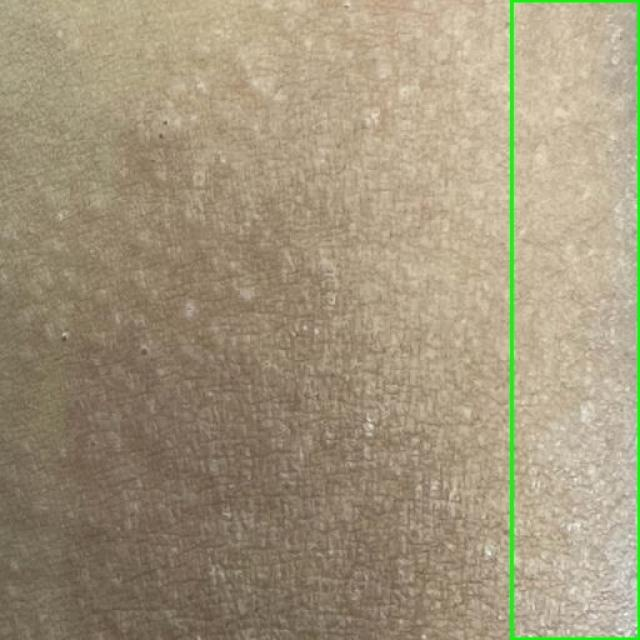Contact Dermatitis: (511, 0, 639, 639)
